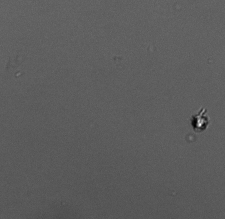Living Cell: (192, 114, 208, 132)
